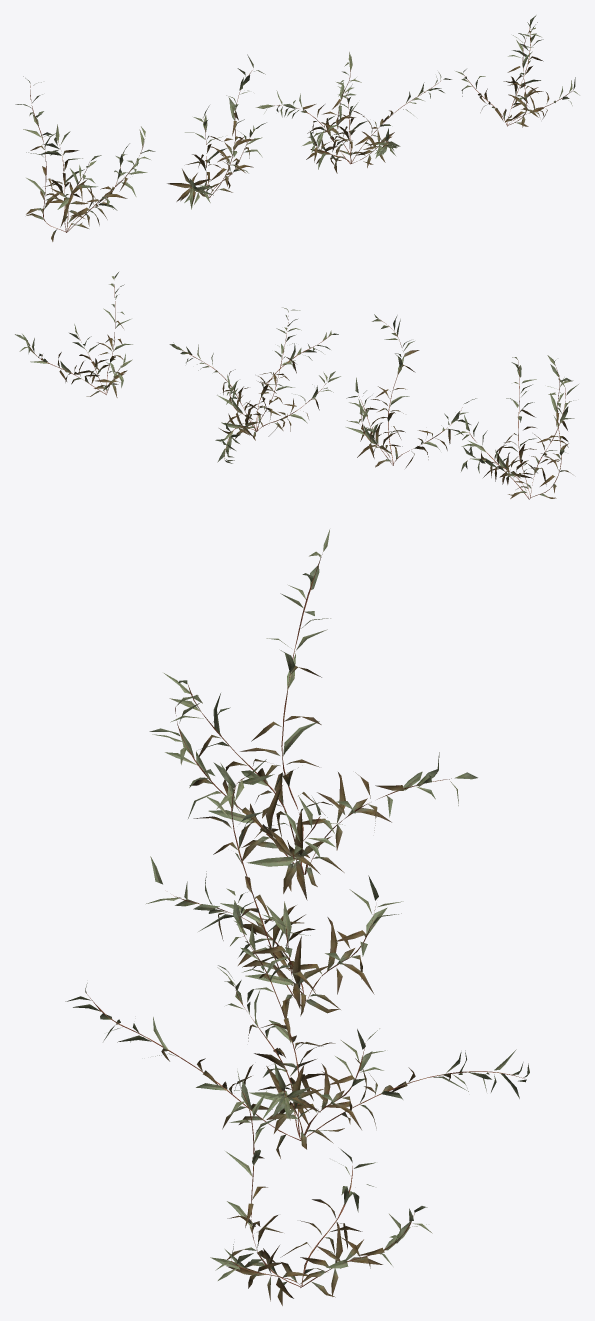
File: shrub_02.glb
3 views of the same model, one above another, from view 1: azimuth 30°, elevation 25°; view 2: azimuth 150°, elevation 25°; view 3: azimuth 270°, elevation 25° (orthographic). The views are drawn at different scales.
Visible parts, largest first — view 1: shrub_02_a, shrub_02_c, shrub_02_b, shrub_02_d; view 2: shrub_02_a, shrub_02_c, shrub_02_b, shrub_02_d; view 3: shrub_02_a, shrub_02_c, shrub_02_b, shrub_02_d.
Part boxes in pixels (x1,y1,x2,y2): shrub_02_a: (15,76,155,241); shrub_02_c: (256,52,451,173); shrub_02_b: (167,54,266,209); shrub_02_d: (455,15,579,127); shrub_02_a: (455,355,578,499); shrub_02_c: (169,307,340,463); shrub_02_b: (346,314,476,468); shrub_02_d: (15,272,132,397); shrub_02_a: (149,529,477,900); shrub_02_c: (65,888,529,1158); shrub_02_b: (146,759,403,1018); shrub_02_d: (210,1071,432,1305).
Size of the model in its own units: 6.03 by 1.7 by 2.28.
Materials: 1 (1 with a texture image).
